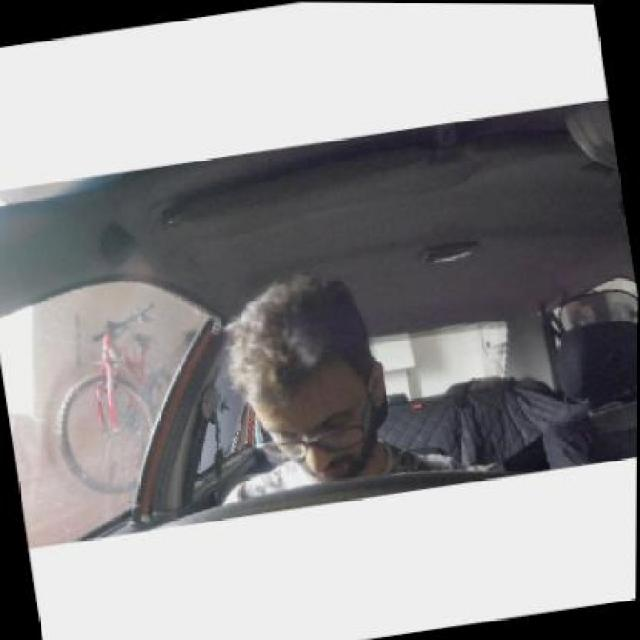drowsy: (218, 269, 400, 488)
